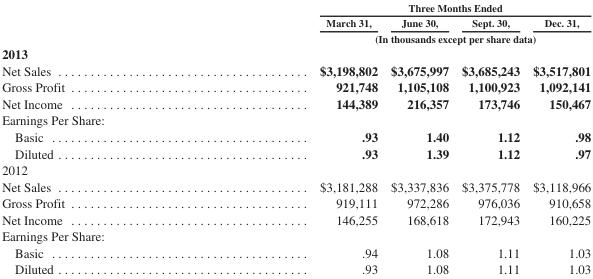table: (1, 1, 590, 276)
table column: (191, 1, 383, 276), (1, 1, 191, 276), (383, 1, 454, 276), (454, 1, 525, 276), (525, 1, 590, 276)
table column header: (1, 1, 590, 45)
table projected row header: (1, 111, 590, 128), (1, 227, 590, 244), (1, 45, 590, 61), (1, 161, 590, 177)
table row: (1, 61, 590, 78), (1, 78, 590, 95), (1, 111, 590, 128), (1, 144, 590, 161), (1, 177, 590, 194), (1, 210, 590, 227), (1, 227, 590, 244), (1, 14, 590, 30), (1, 45, 590, 61), (1, 95, 590, 111), (1, 128, 590, 144), (1, 161, 590, 177), (1, 194, 590, 210), (1, 244, 590, 260), (1, 260, 590, 276), (1, 30, 590, 45), (1, 1, 590, 14)
table spanning cell: (191, 30, 590, 45), (191, 1, 590, 14)
